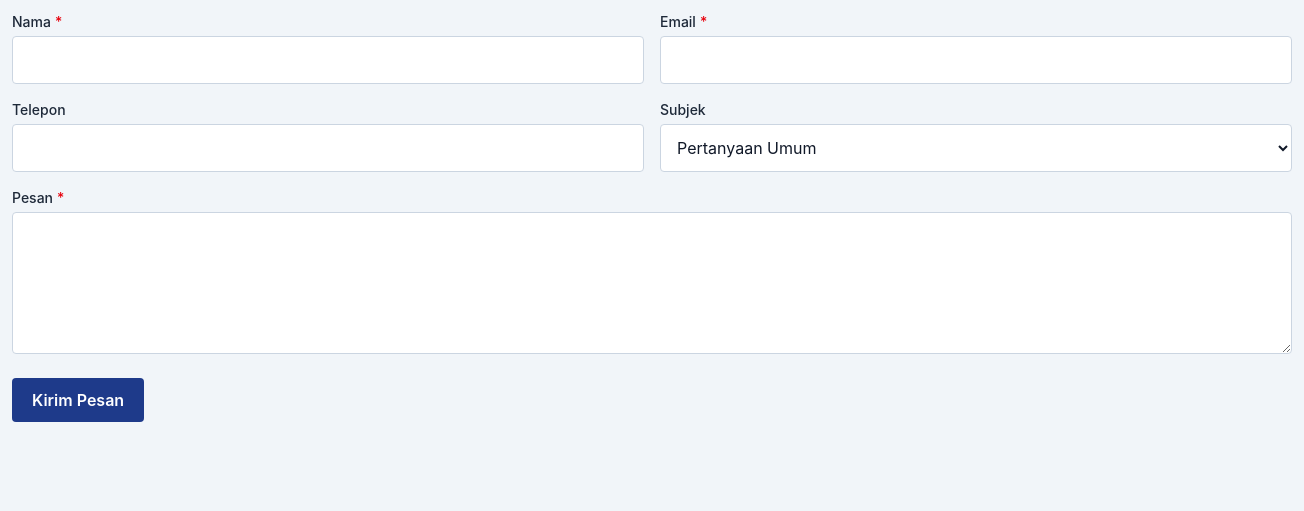
ContactForm component › shows API error when submission fails
Type "Dozer" into the field labelled "Nama*" at (328, 60), box [12,36,644,84]
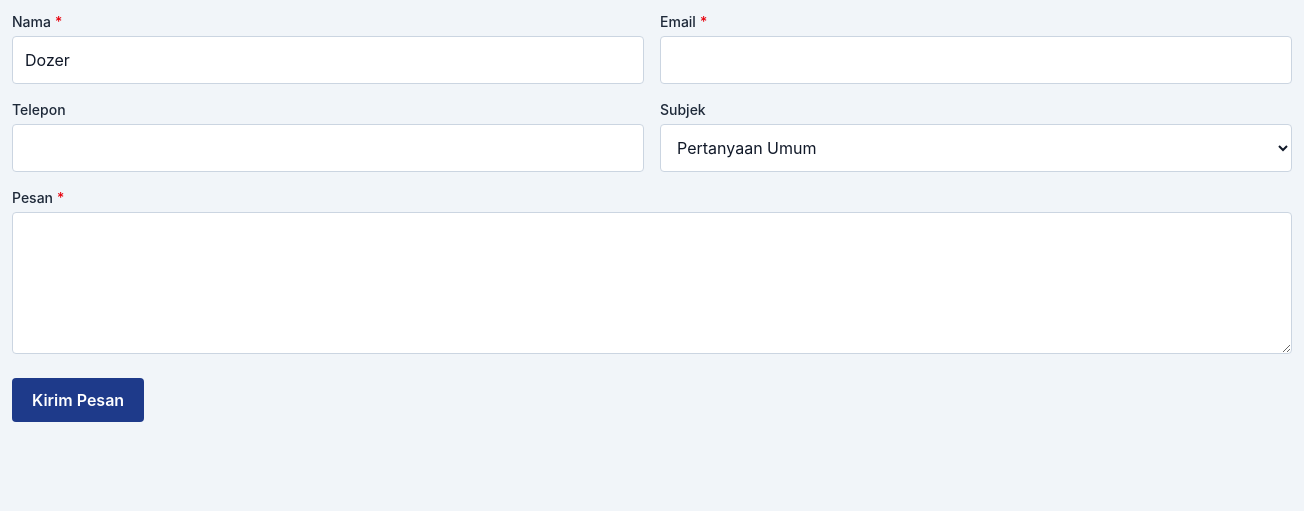
Type "dozer@example.com" into the field labelled "Email*" at (976, 60), box [660,36,1292,84]
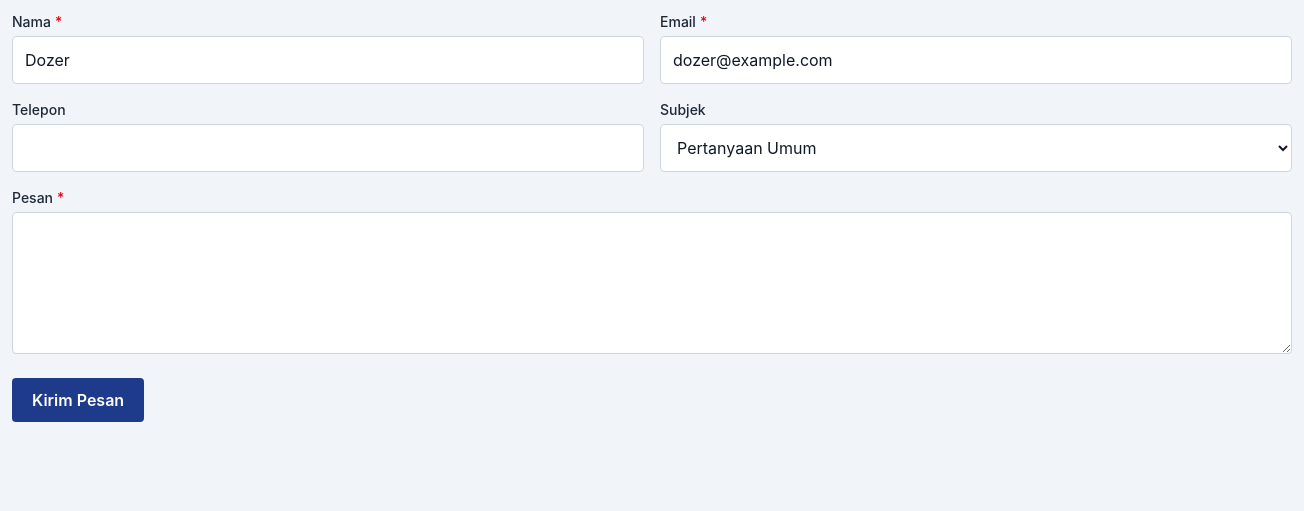
Type "Ini pesan panjang untuk validasi." into the text box labelled "Pesan*" at (652, 283), box [12,212,1292,354]
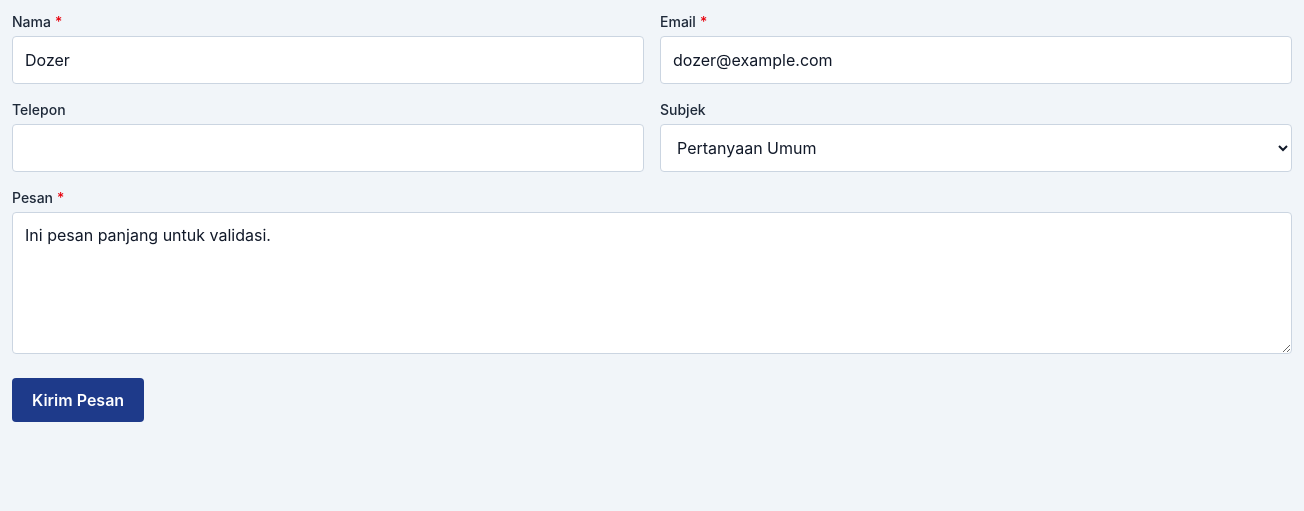
Click the button "Kirim Pesan" at (78, 400), box [12,378,144,422]
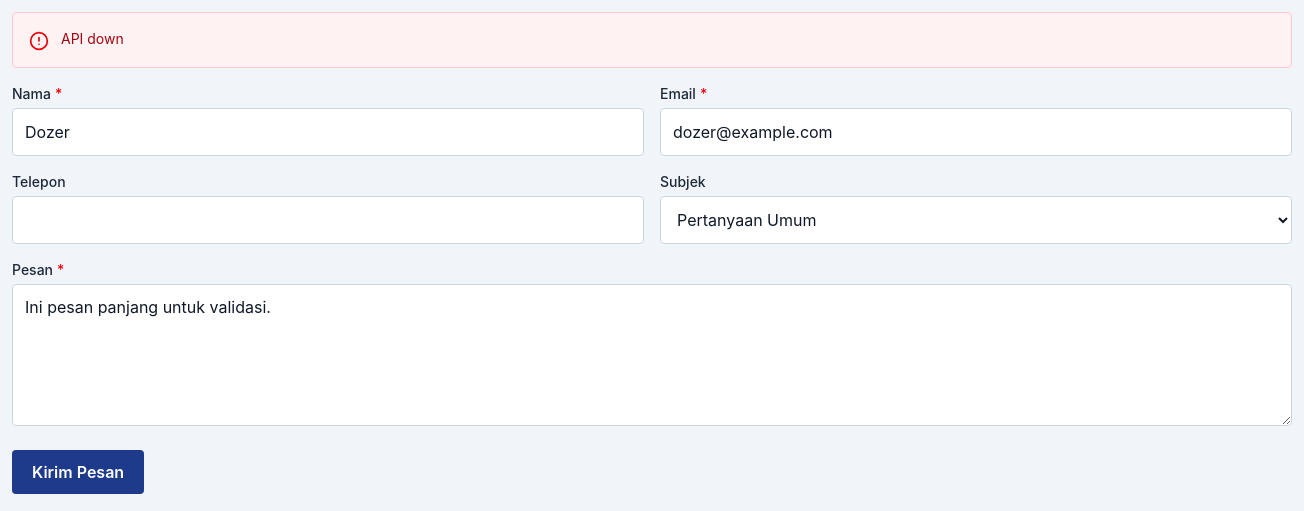
Now the text "API down" is shown, box [61,30,124,47]
